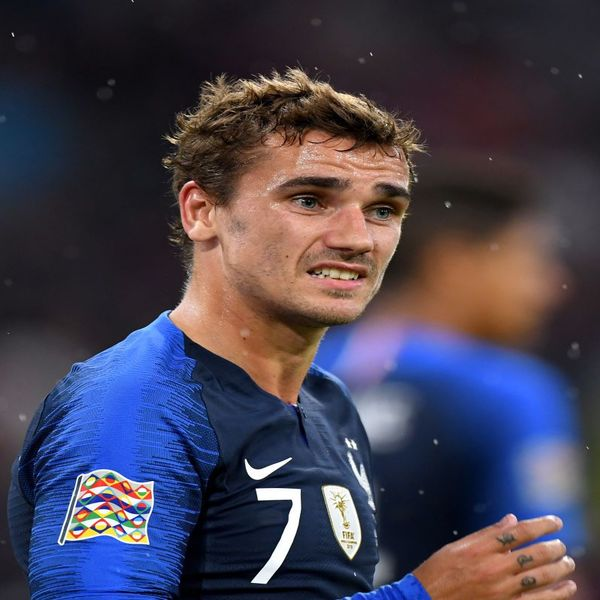nike: (239, 455, 296, 481)
